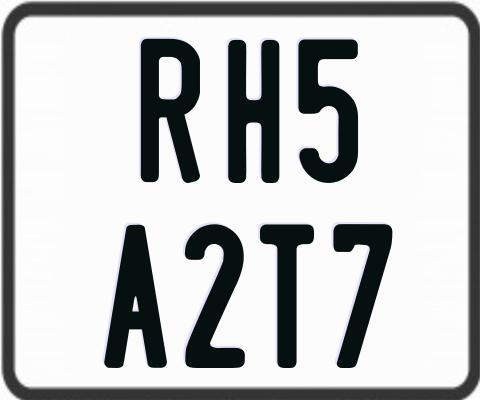2: (182, 223, 244, 368)
5: (297, 36, 363, 186)
7: (330, 223, 389, 372)
A: (102, 225, 167, 374)
H: (226, 39, 279, 186)
R: (139, 36, 202, 180)
T: (258, 224, 315, 368)
